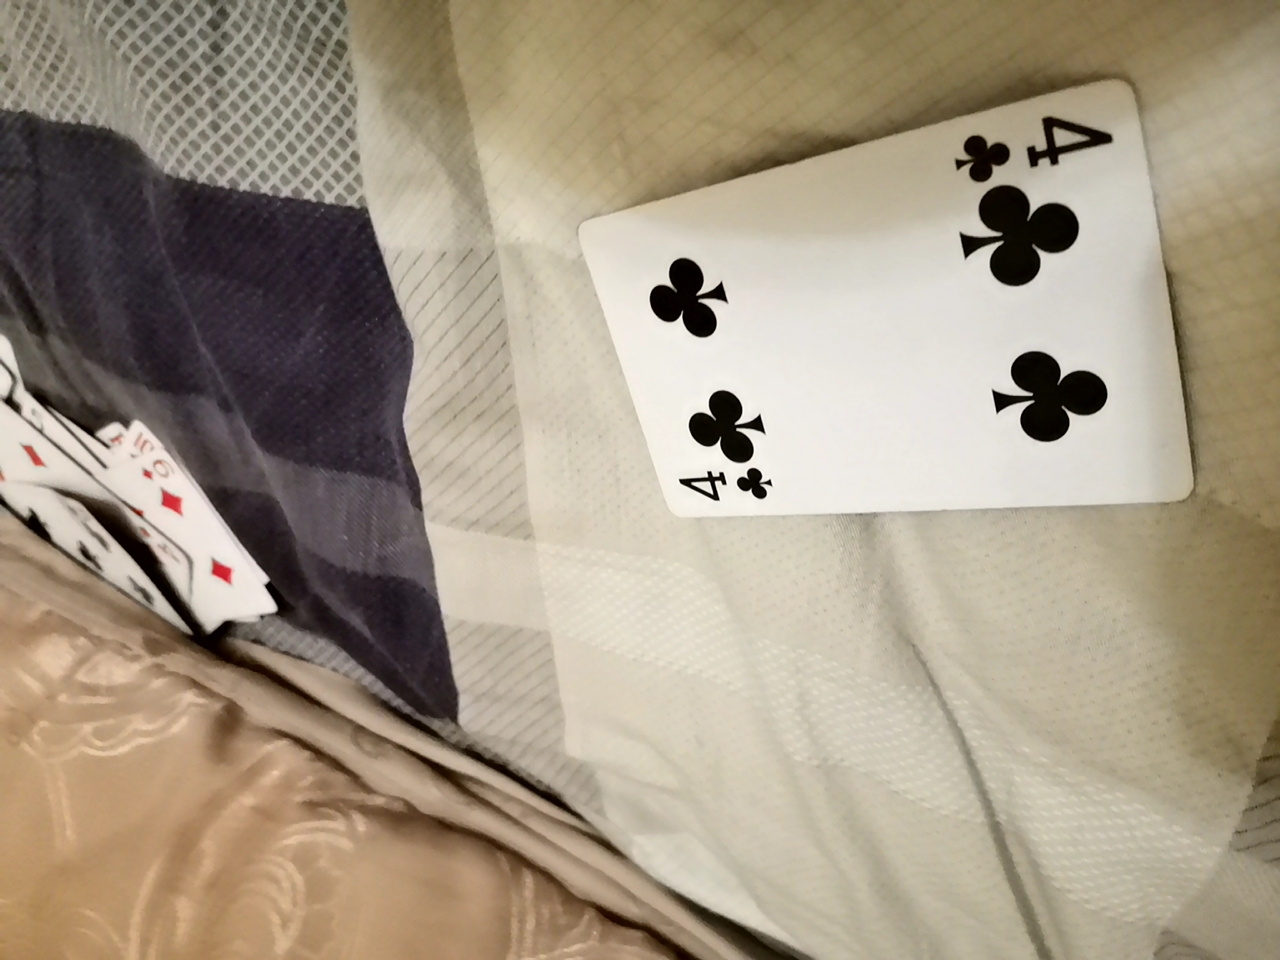mh 4: (599, 86, 1184, 530)
